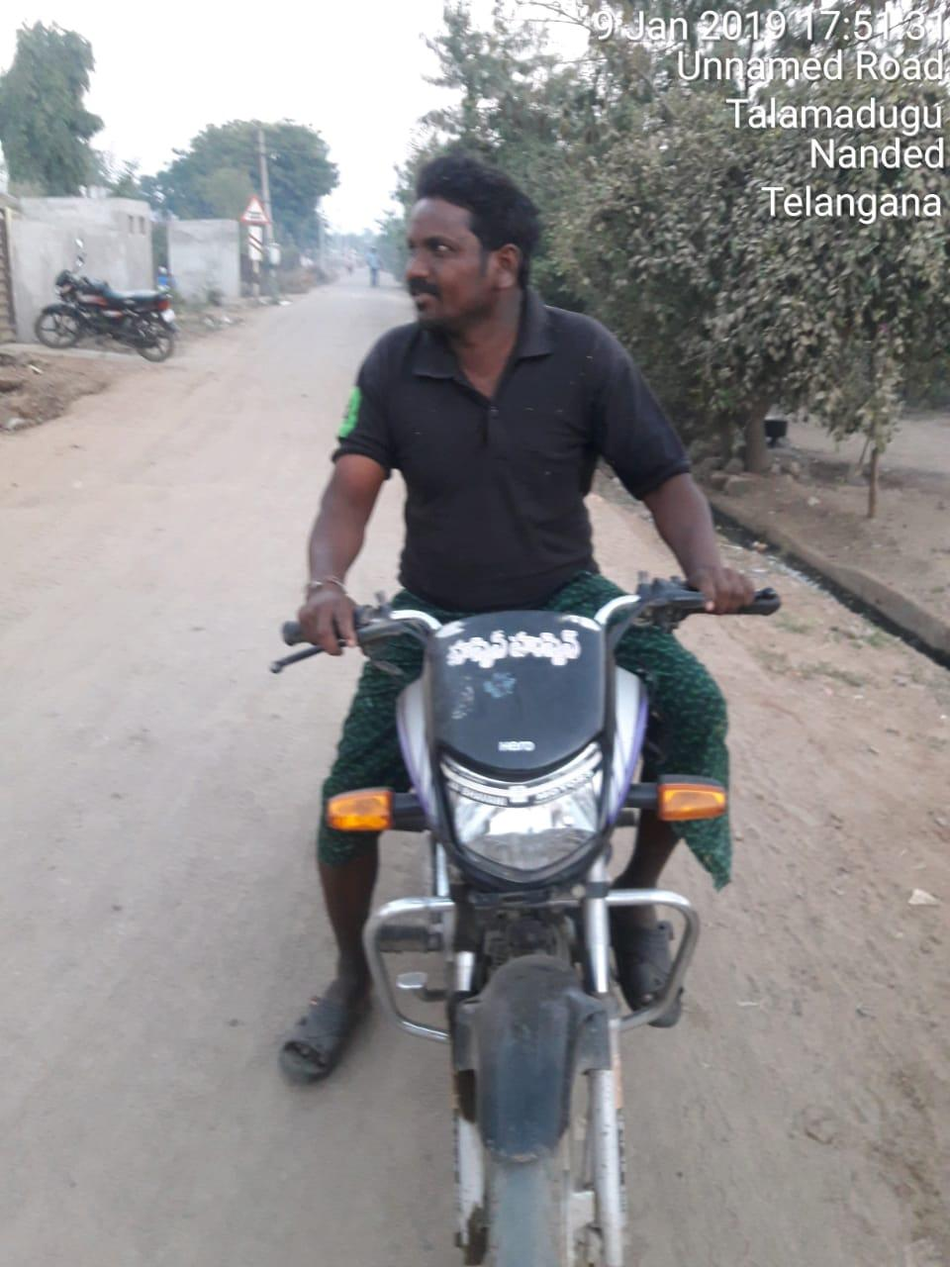without_helmet: (279, 130, 802, 1267)
